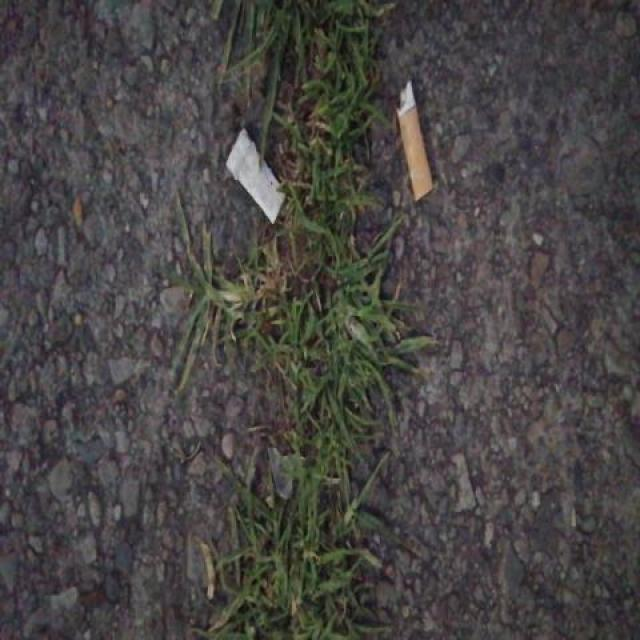non-organic waste: (217, 125, 295, 231), (389, 75, 439, 206)
